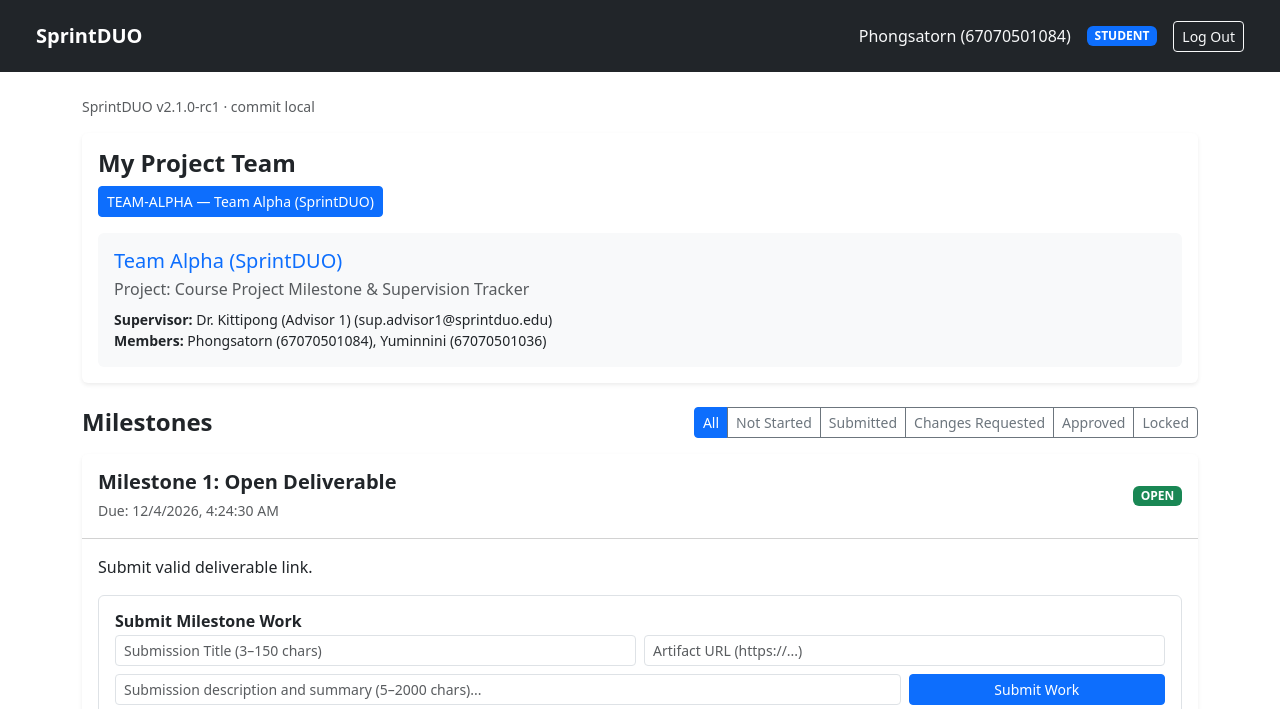
SprintDUO Client UI — TEST-03 & TEST-04 Student Submission & Persisted View › DEF-SD-02: clears previous user error and success alerts on Log Out and next Sign In
Type "Bad URL Draft" into the field with test id "submission-title-101" at (376, 650), box [115, 635, 636, 666]
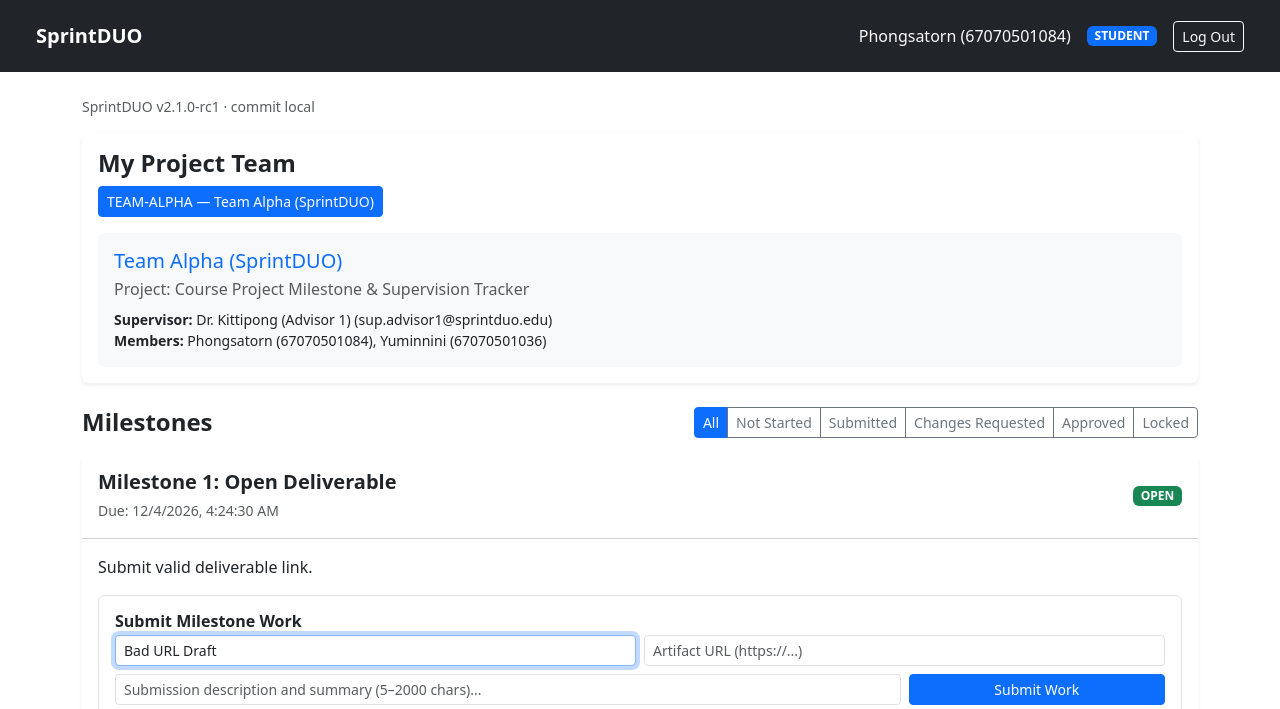
Type "ftp://bad" into the field with test id "submission-url-101" at (904, 650), box [644, 635, 1165, 666]
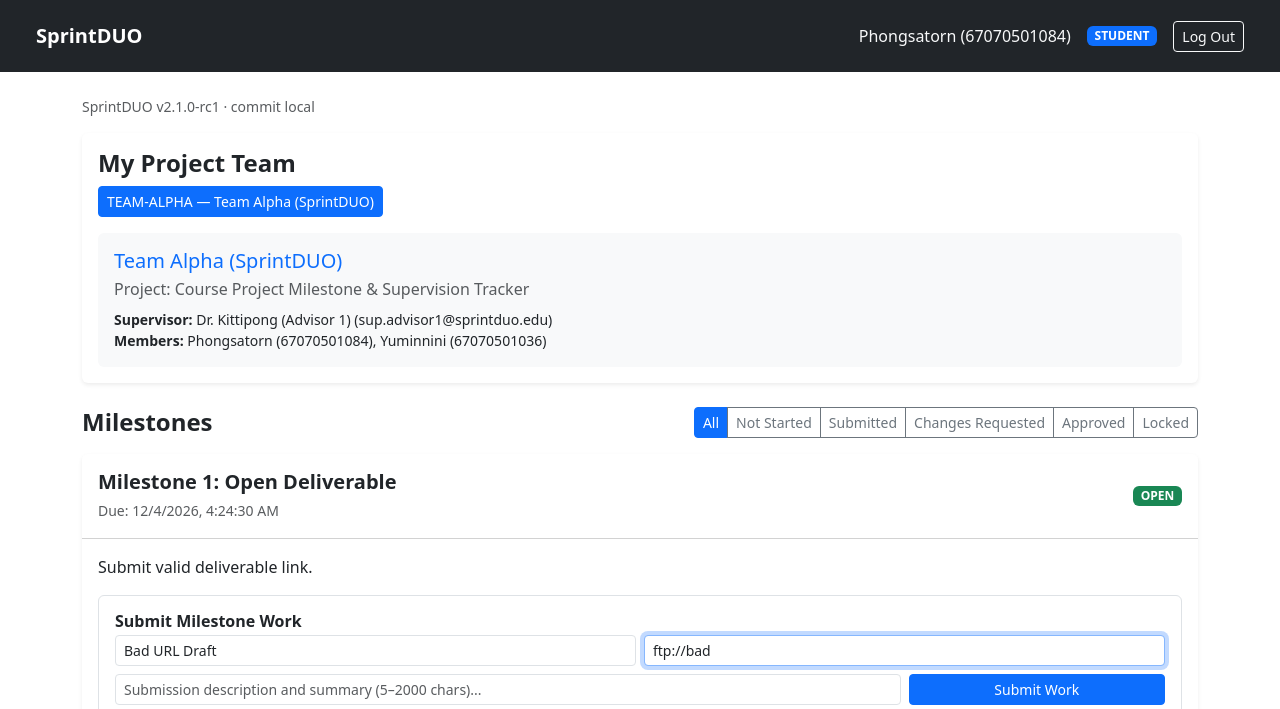
Type "Bad URL submission body" into the field with test id "submission-desc-101" at (508, 690), box [115, 674, 900, 705]
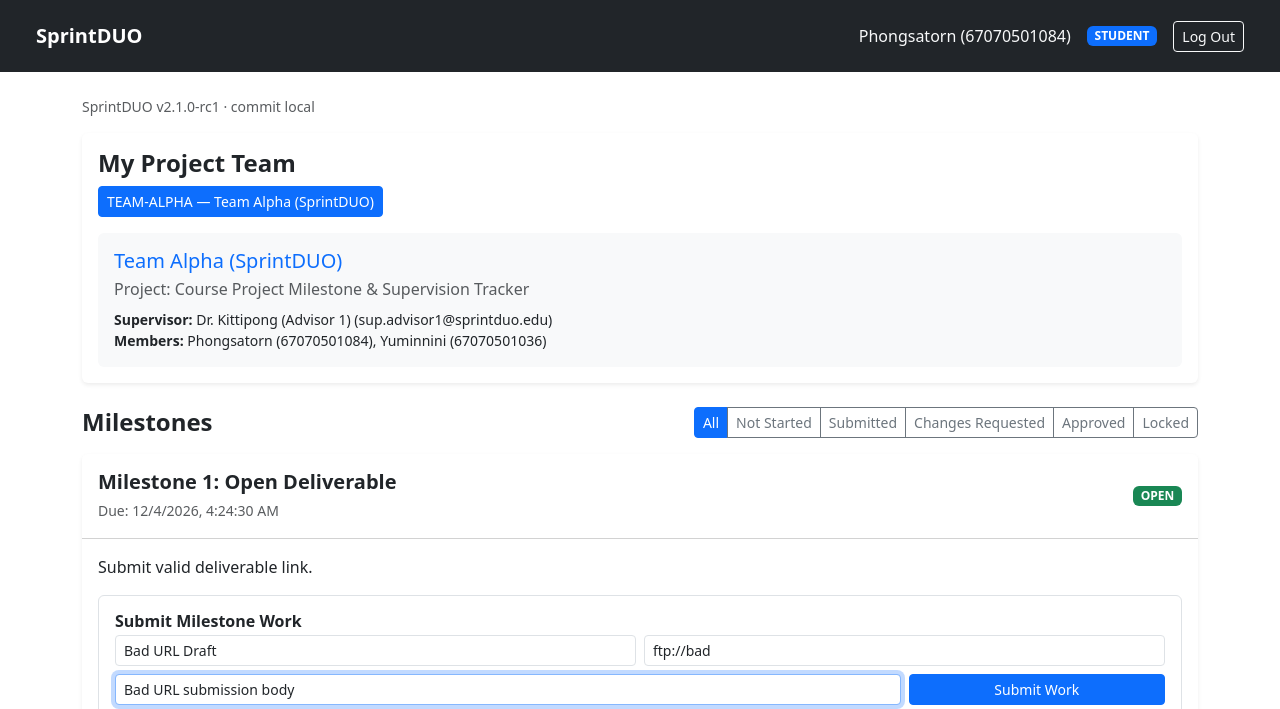
Click the button with test id "submission-submit-101" at (1037, 690), box [908, 674, 1165, 705]
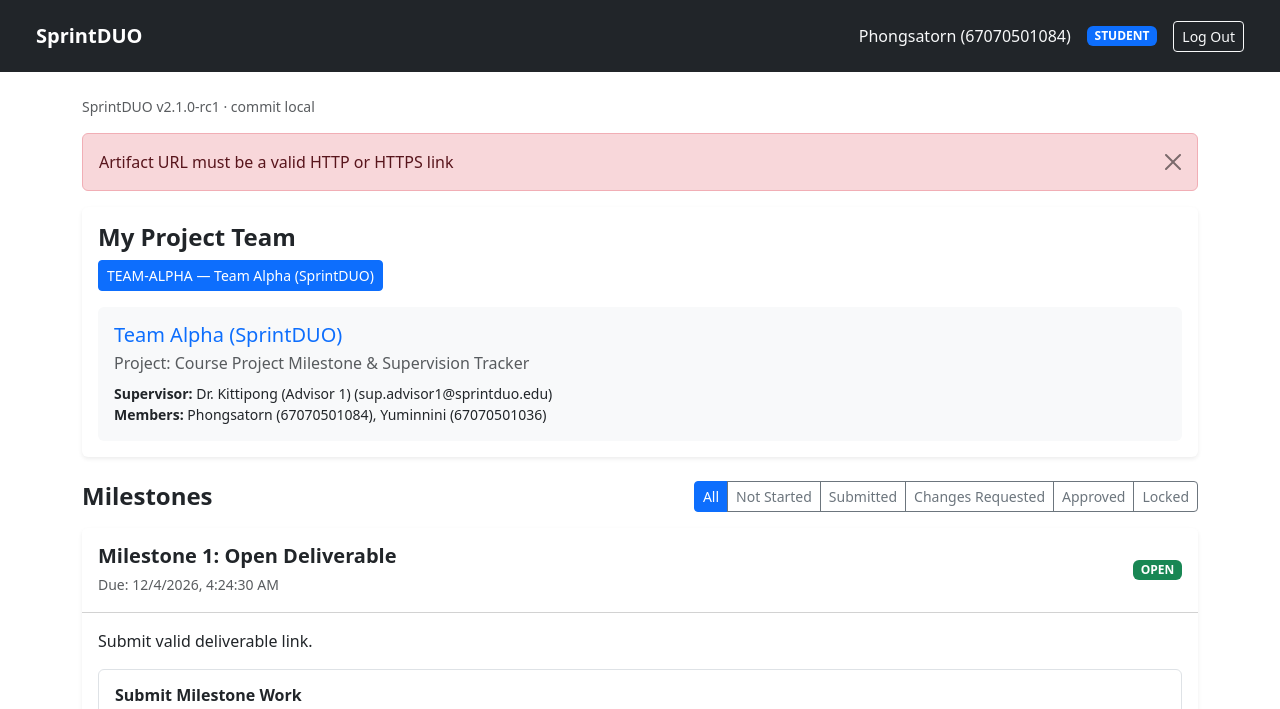
Expected: the message reads "Artifact URL must be a valid HTTP or HTTPS link", [99, 151, 454, 173]
Click the button with test id "logout-btn" at (1209, 36), box [1173, 20, 1244, 52]
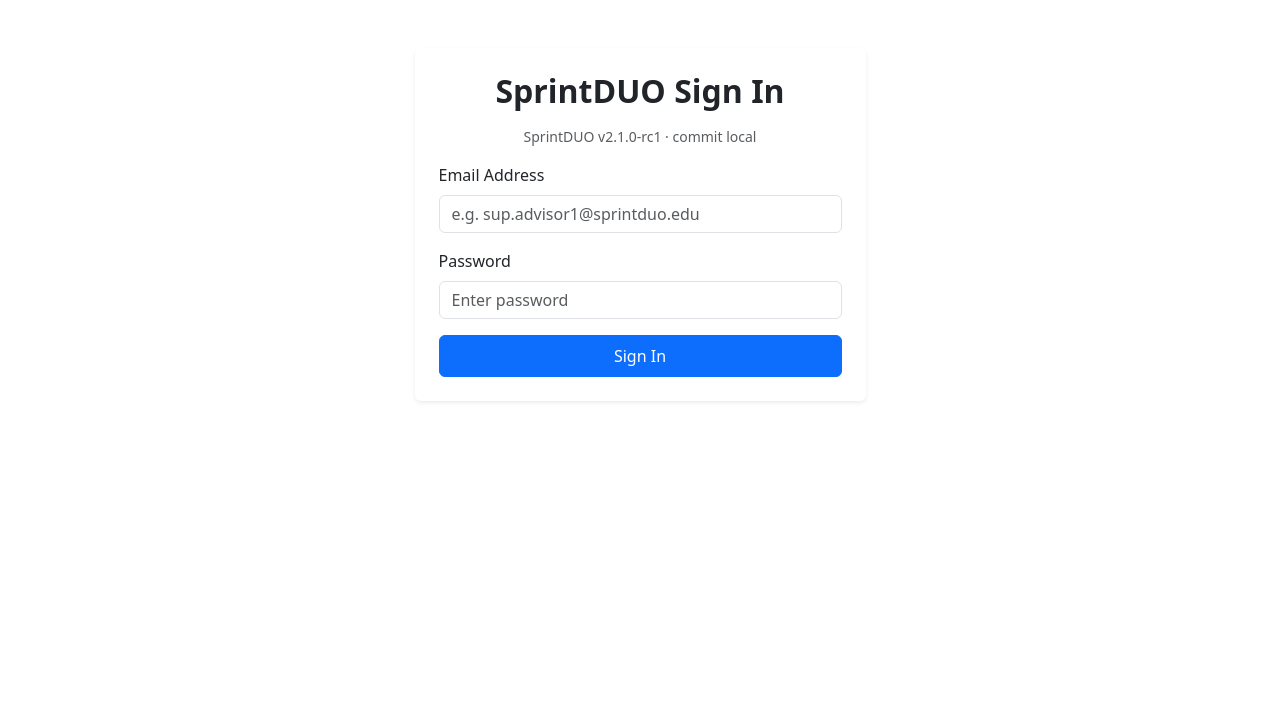
Expected: the heading "SprintDUO Sign In" is shown, [495, 69, 785, 112]
Expected: the message "Artifact URL must be a valid HTTP or HTTPS link" is gone
